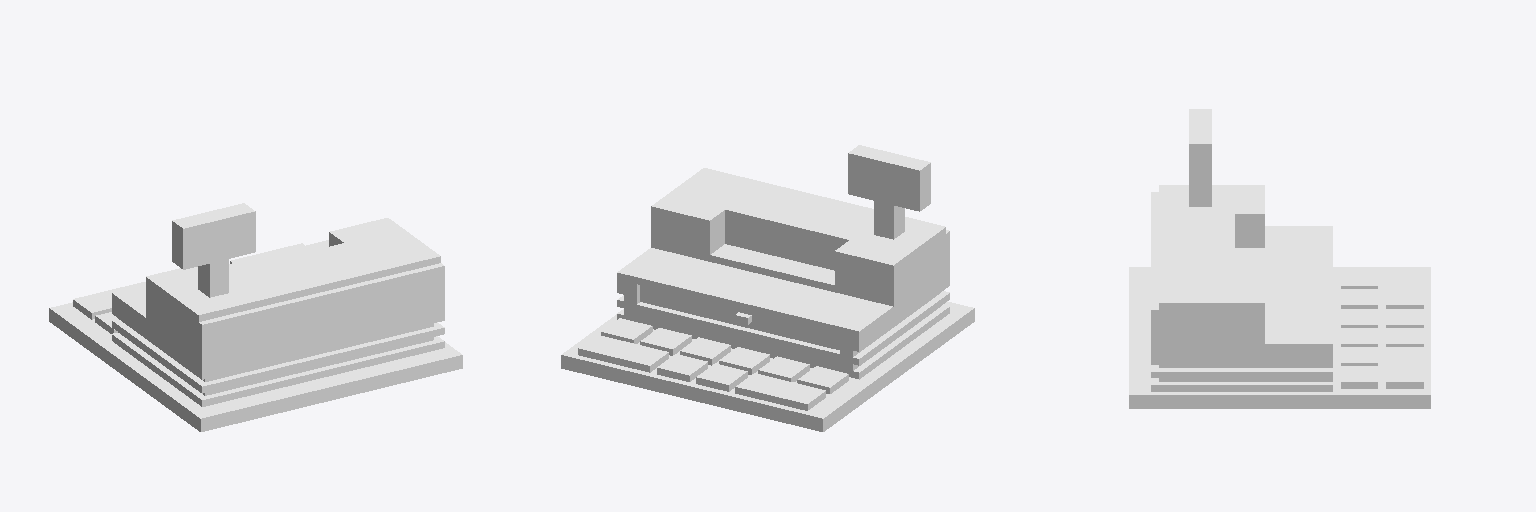
Rendered from cash.obj.
The picture shows the model from 3 angles: view 1: azimuth 30°, elevation 25°; view 2: azimuth 150°, elevation 25°; view 3: azimuth 270°, elevation 25°; orthographic projection.
Visible parts, largest first — view 1: cash; view 2: cash; view 3: cash.
Boxes of the visible parts, box(x1,y1,x2,y2) form: cash: box(49, 203, 462, 431); cash: box(561, 145, 974, 431); cash: box(1129, 109, 1430, 408).
Bounding box in the file's own units: 40 × 26 × 40.